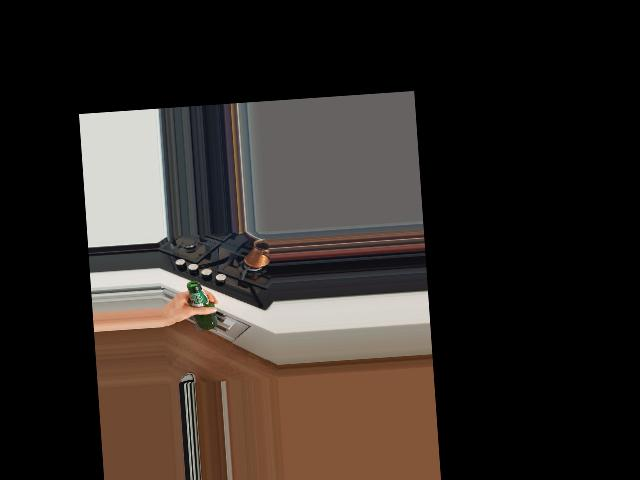beer: (186, 279, 217, 331)
